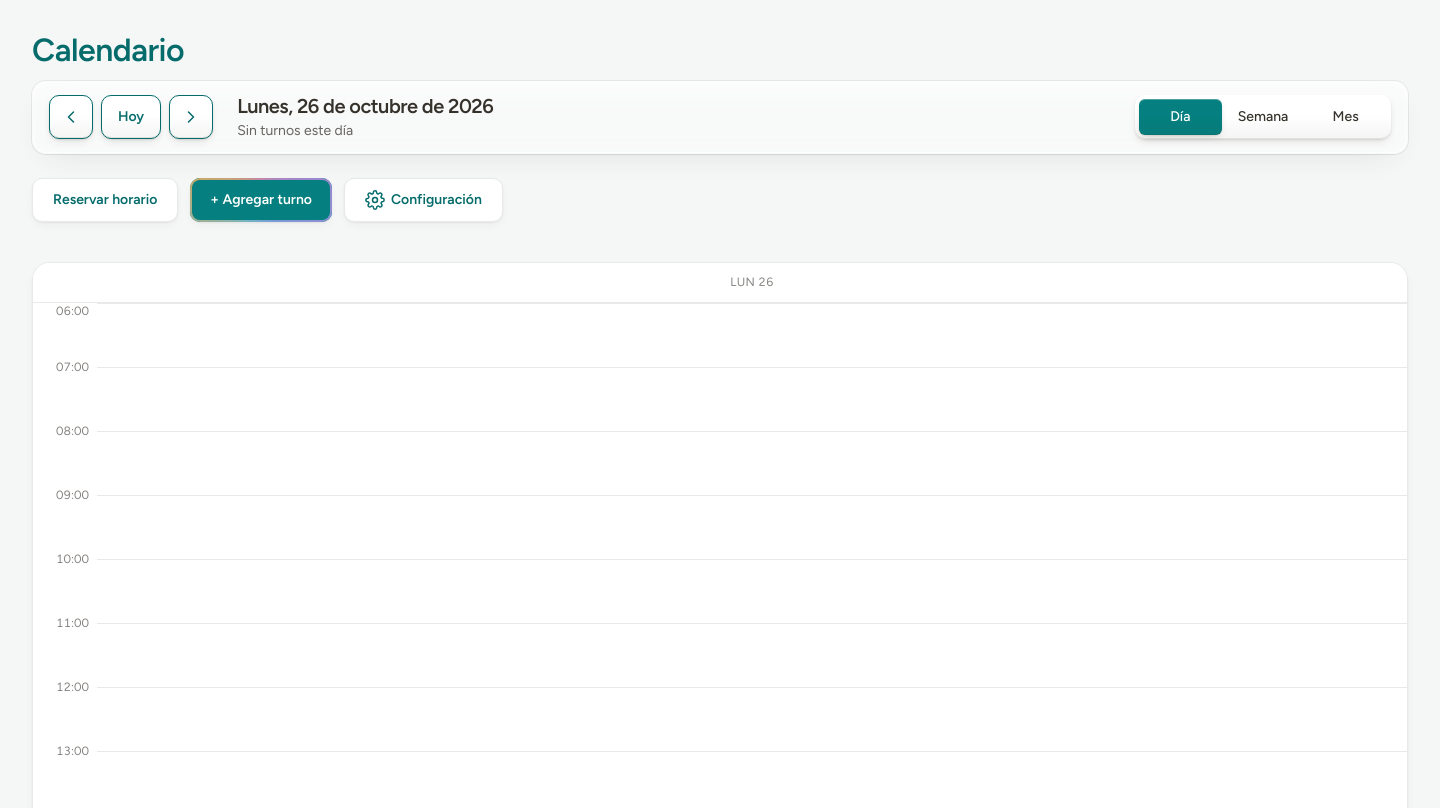
Test: CalendarView › el botón 'Configuración' de la fila de acciones abre la configuración
Expected: the dialog "Configuración de calendario" is not shown
What coordinates should you click on to do the following:
click the button with aria-label "Configuración de calendario"
I would click on:
 (423, 200)
Its box is [344,178,503,222].
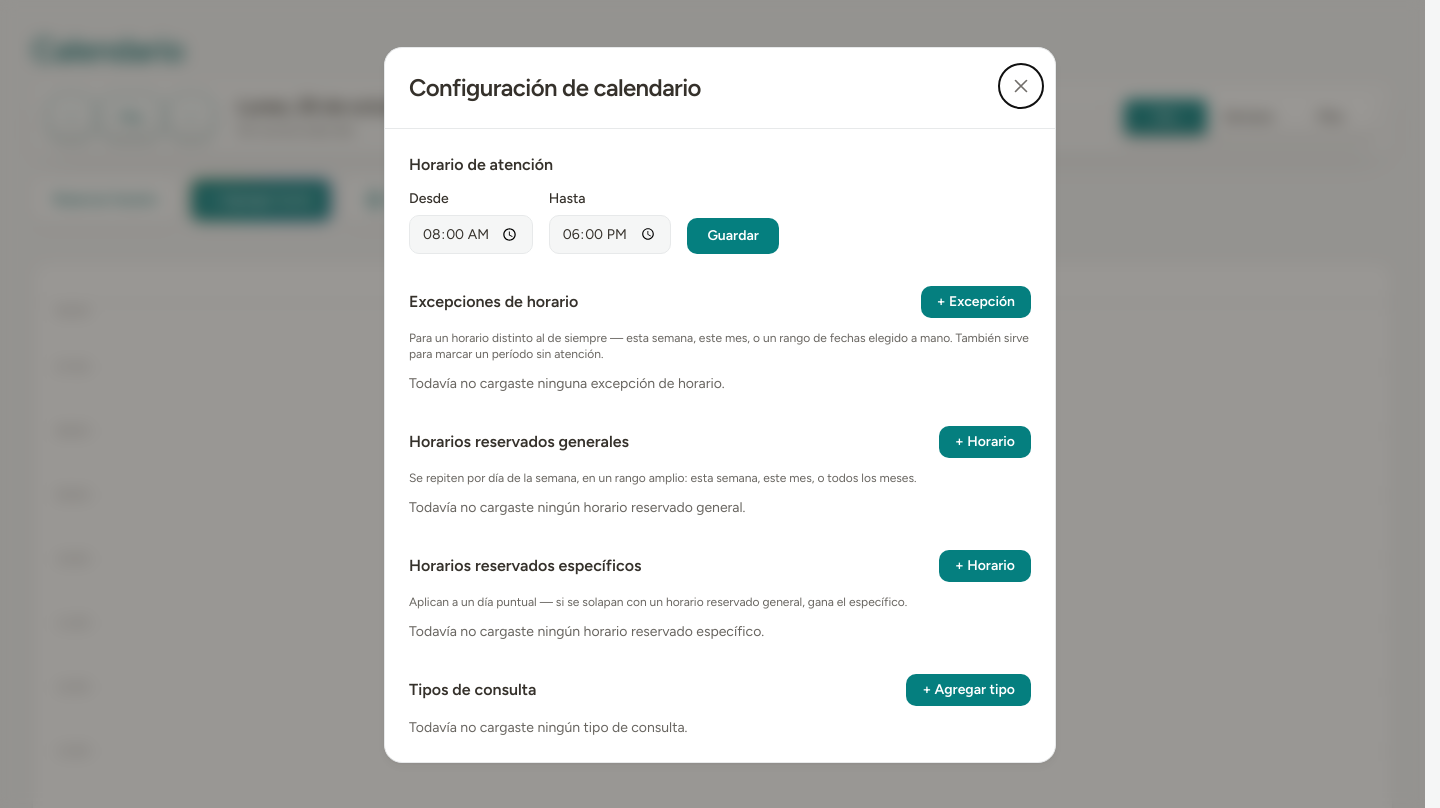
Expected: the dialog "Configuración de calendario" is shown, [384,47,1056,763]
